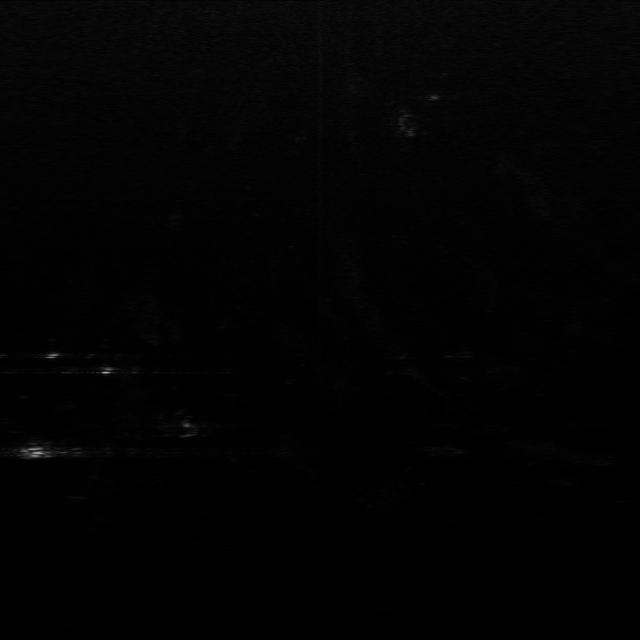rov: (14, 441, 58, 466)
